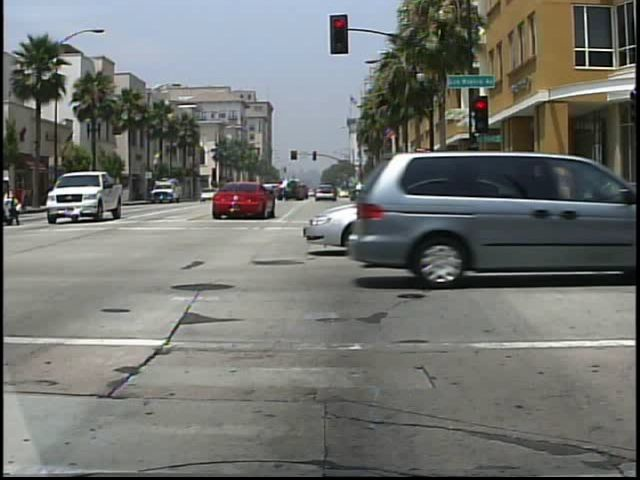person: (3, 172, 28, 228)
